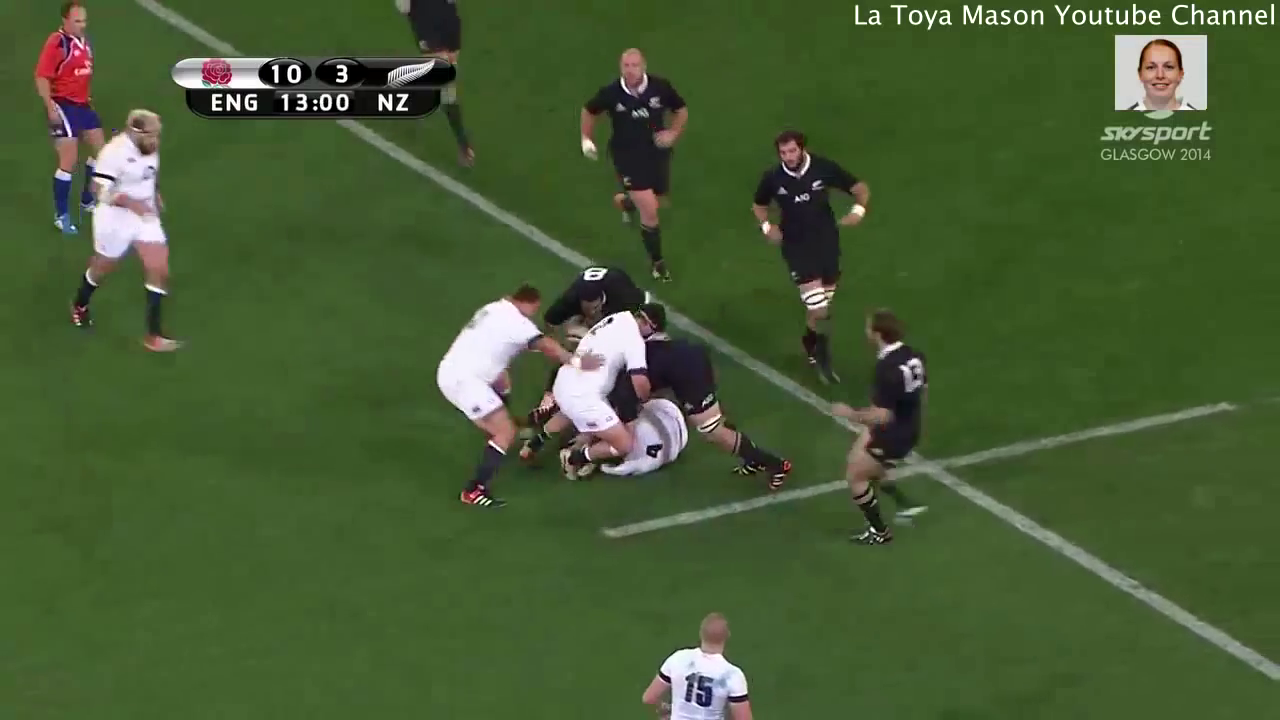player: (736, 121, 882, 397), (564, 44, 709, 292), (413, 282, 559, 517), (831, 303, 958, 556), (65, 106, 180, 361), (632, 332, 802, 499), (540, 299, 671, 456), (27, 1, 111, 236), (391, 1, 485, 168), (634, 606, 767, 720), (572, 392, 706, 483)
